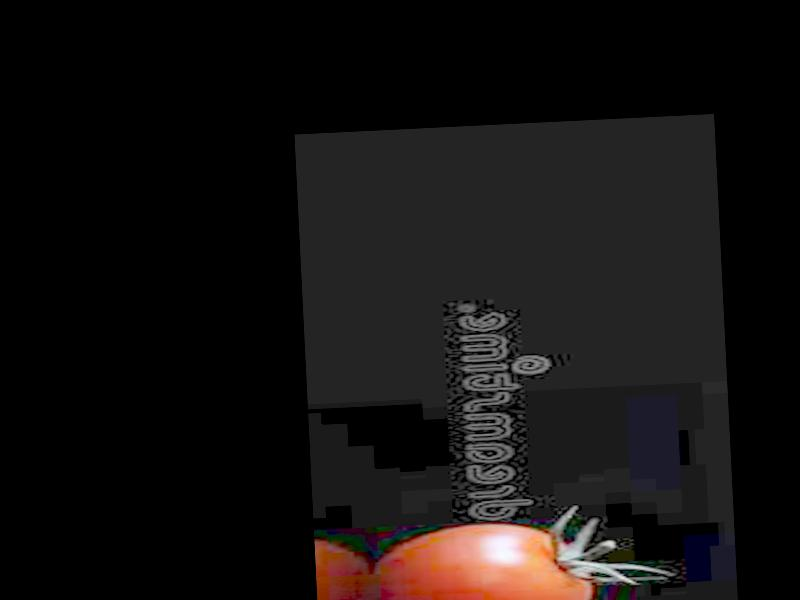Tomato: (377, 519, 595, 600)
